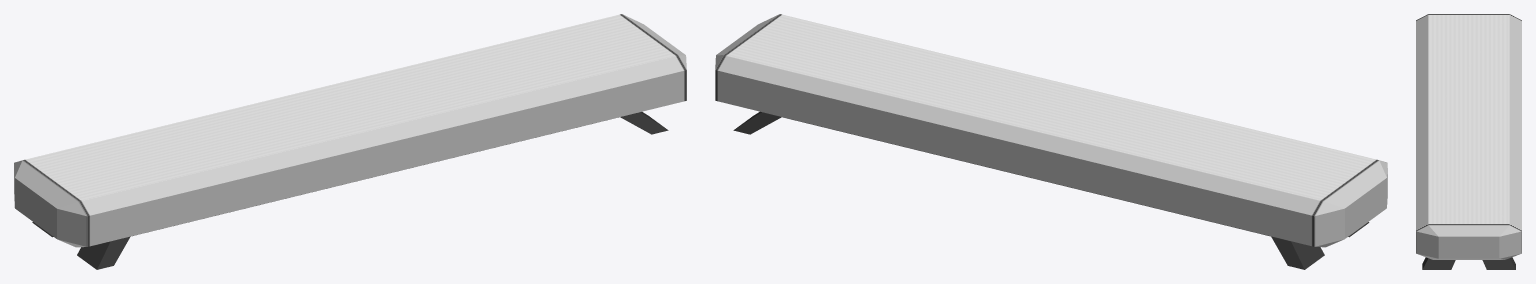
The model's file is Whelen.fbx.
The picture shows the model from 3 angles, left to right: view 1: azimuth 30°, elevation 25°; view 2: azimuth 150°, elevation 25°; view 3: azimuth 270°, elevation 25°; orthographic projection. The views are drawn at different scales.
Parts seen in each view (by area): view 1: Whelen.002, Whelen, Whelen.003; view 2: Whelen.002, Whelen, Whelen.003; view 3: Whelen.002, Whelen, Whelen.003.
Boxes of the visible parts, box(x1,y1,x2,y2) form: Whelen.002: box(23, 14, 677, 201); Whelen: box(14, 14, 686, 247); Whelen.003: box(32, 112, 668, 269); Whelen.002: box(724, 14, 1378, 201); Whelen: box(715, 14, 1387, 247); Whelen.003: box(733, 111, 1369, 269); Whelen.002: box(1428, 14, 1509, 225); Whelen: box(1416, 14, 1521, 259); Whelen.003: box(1422, 257, 1515, 269).
Size of the model in its own units: 63.5 by 6.64 by 12.8.
Materials: 2 (1 with a texture image).
